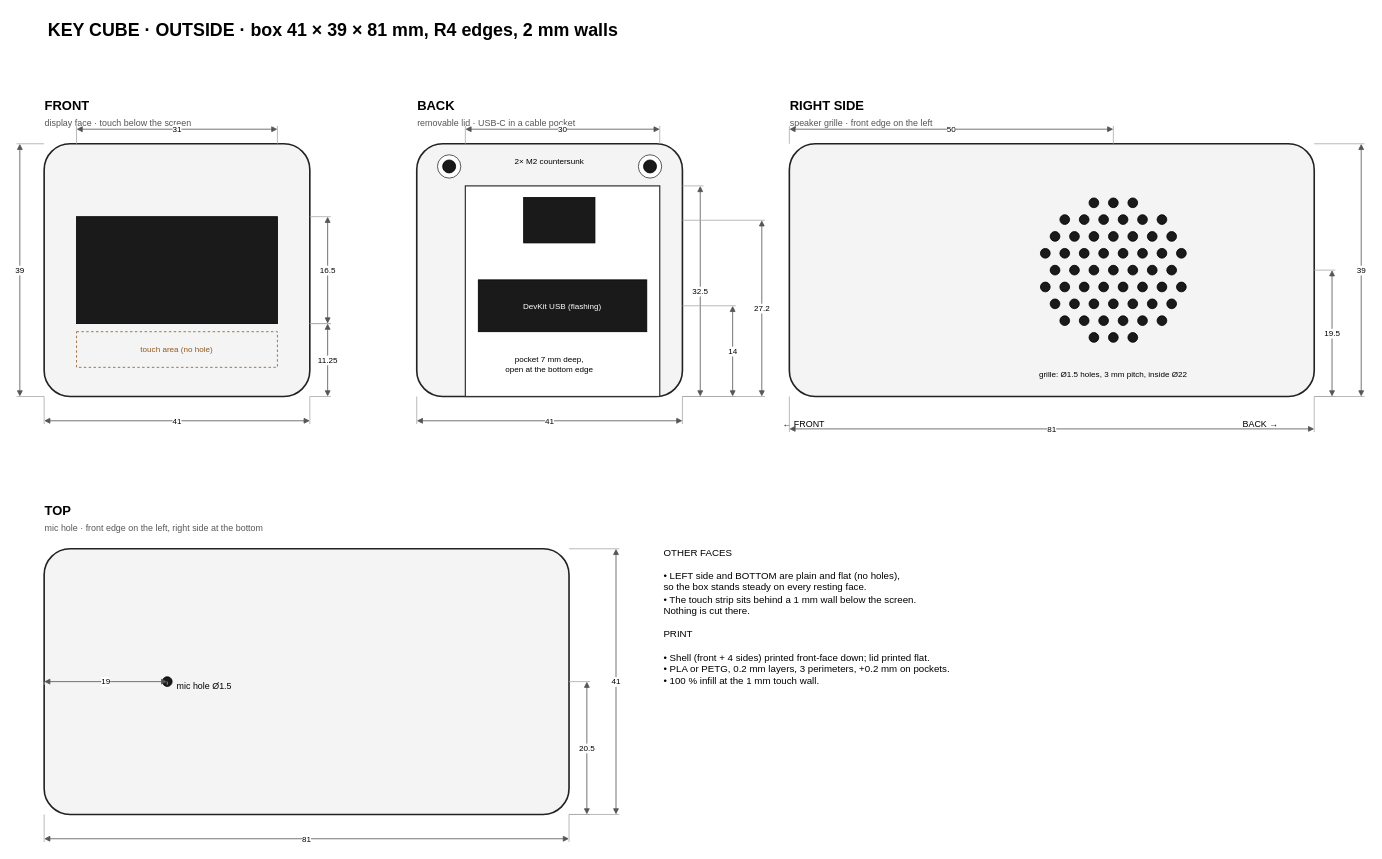
Image size: 1382x859. Some labels were removed from this diagram. Here are the shapes that lost their labels. From the top down, the centre of each, then its label:
At (x=559, y=220): "CHARGE".
At (x=176, y=270): "OLED window 31 × 16.5".
